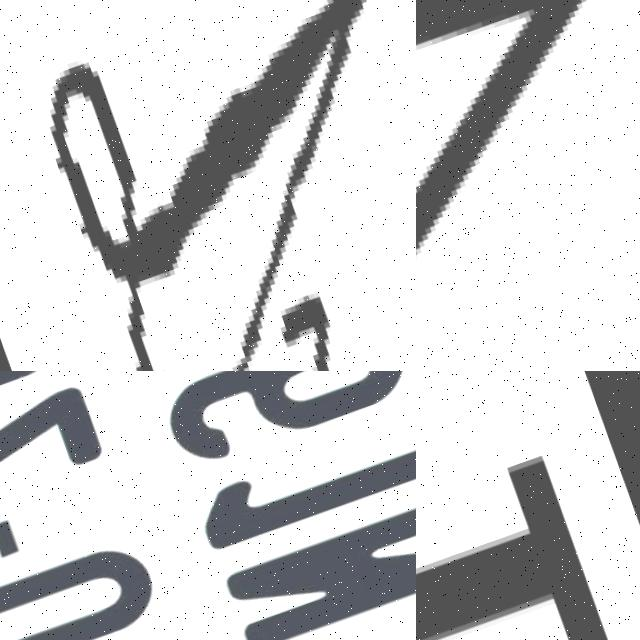1: (185, 410, 416, 550)
6: (152, 371, 416, 470)
N: (214, 497, 416, 640)
U: (0, 535, 171, 640)
V: (416, 0, 640, 371)
Y: (416, 371, 640, 640)
Z: (0, 382, 107, 540)
